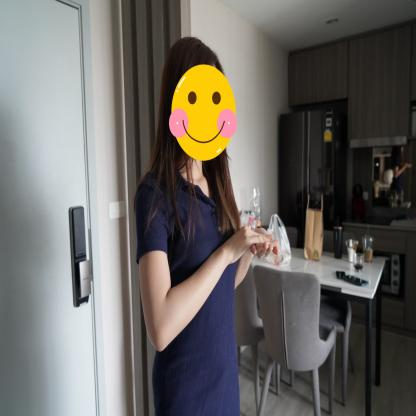Love: (208, 222, 282, 282)
